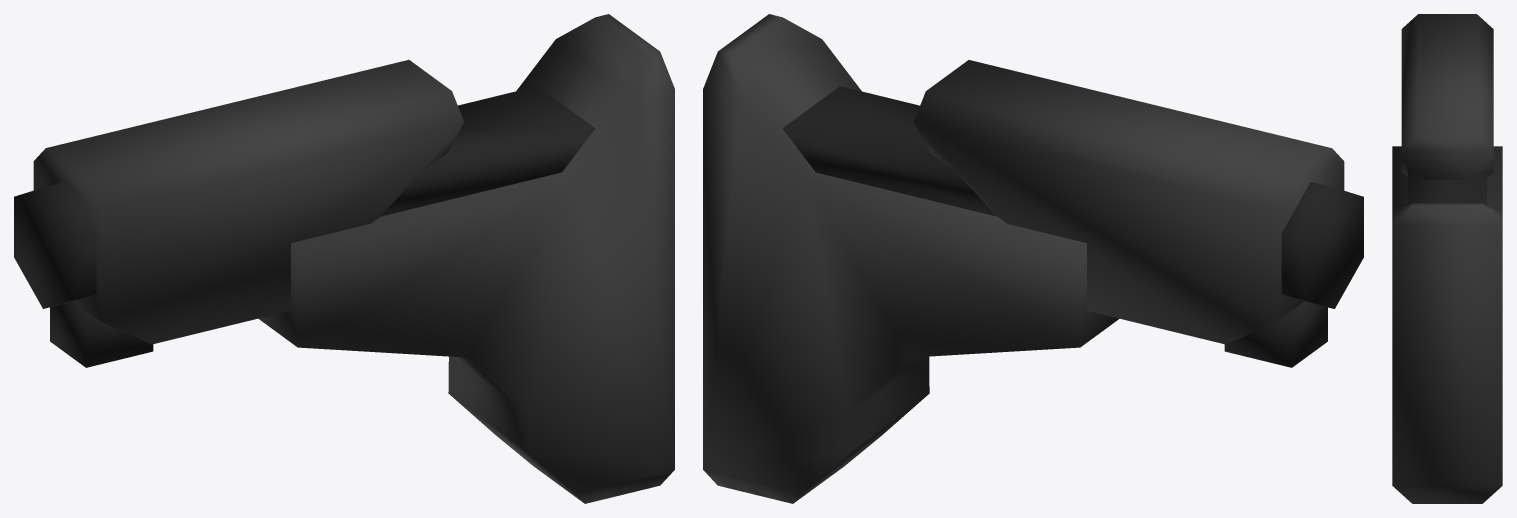
Rendered from Stocks_TacticalStocks_Base_0_Mod.FBX.
3 renders of one model, left to right at view 1: azimuth 30°, elevation 25°; view 2: azimuth 150°, elevation 25°; view 3: azimuth 270°, elevation 25°, orthographic. The views are drawn at different scales.
Parts seen in each view (by area): view 1: Stocks_TacticalStocks_Base_0_Mod; view 2: Stocks_TacticalStocks_Base_0_Mod; view 3: Stocks_TacticalStocks_Base_0_Mod.
Boxes of the visible parts, x1,y1,x2,y2 form: Stocks_TacticalStocks_Base_0_Mod: [14, 14, 674, 503]; Stocks_TacticalStocks_Base_0_Mod: [703, 14, 1363, 503]; Stocks_TacticalStocks_Base_0_Mod: [1392, 14, 1502, 503].
Size of the model in its own units: 28.11 by 20.05 by 6.64.
